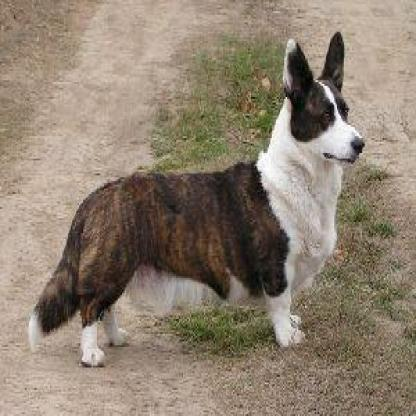Cardigan: (28, 26, 358, 362)
